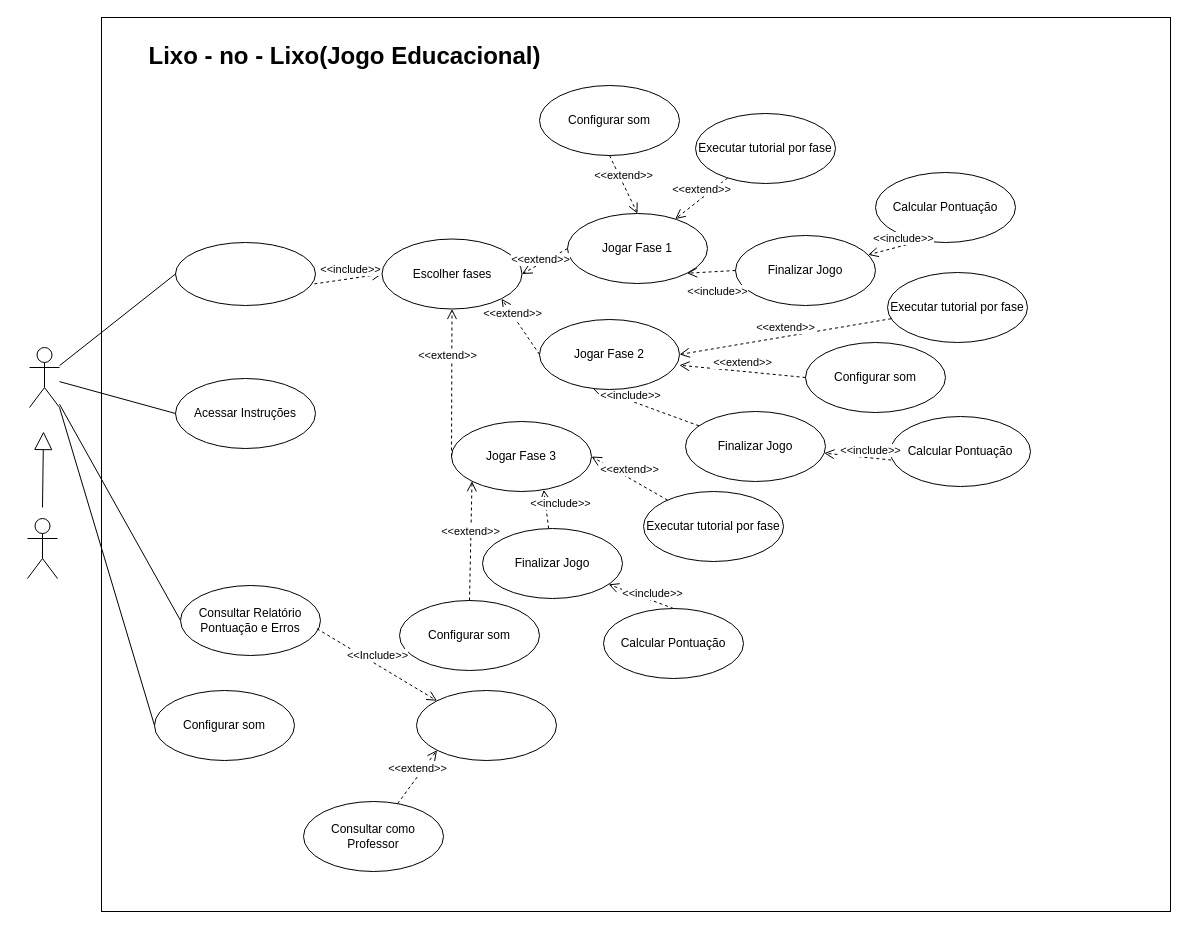
This 1188x929 diagram has some shape labels left out. Here are the shapes that lost their labels. From the top down, the centre of each, then its label:
At (245,274): "Iniciar jogo".
At (44,377): "Aluno".
At (42,548): "Professor".
At (486,725): "Consultar Relatório do Aluno".
